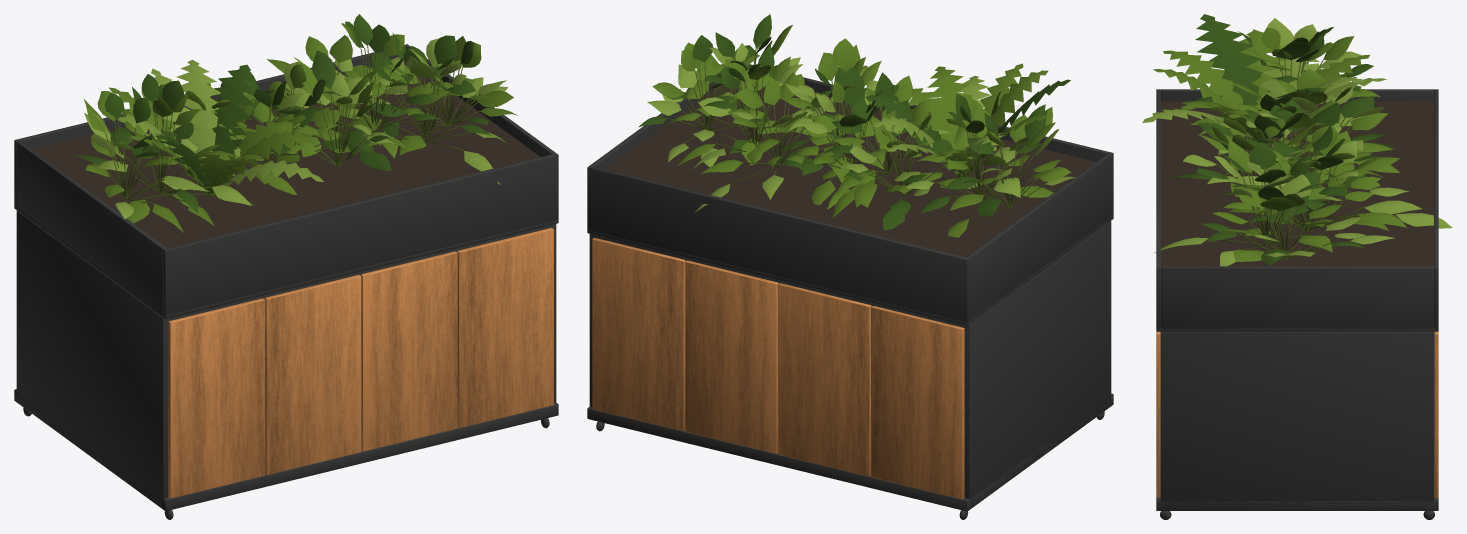
Rendered from greenery.mobile-planter-divider.glb.
3 renders of one model, left to right at view 1: azimuth 30°, elevation 25°; view 2: azimuth 150°, elevation 25°; view 3: azimuth 270°, elevation 25°, orthographic. The views are drawn at different scales.
Visible parts, largest first — view 1: greenery.mobile-planter-divider.001; view 2: greenery.mobile-planter-divider.001; view 3: greenery.mobile-planter-divider.001.
Boxes of the visible parts, x1,y1,x2,y2 form: greenery.mobile-planter-divider.001: (14,14,558,519); greenery.mobile-planter-divider.001: (587,14,1113,519); greenery.mobile-planter-divider.001: (1142,14,1452,519).
Bounding box in the file's own units: 1.92 × 1.62 × 1.32.
7 materials, 1 textured.
